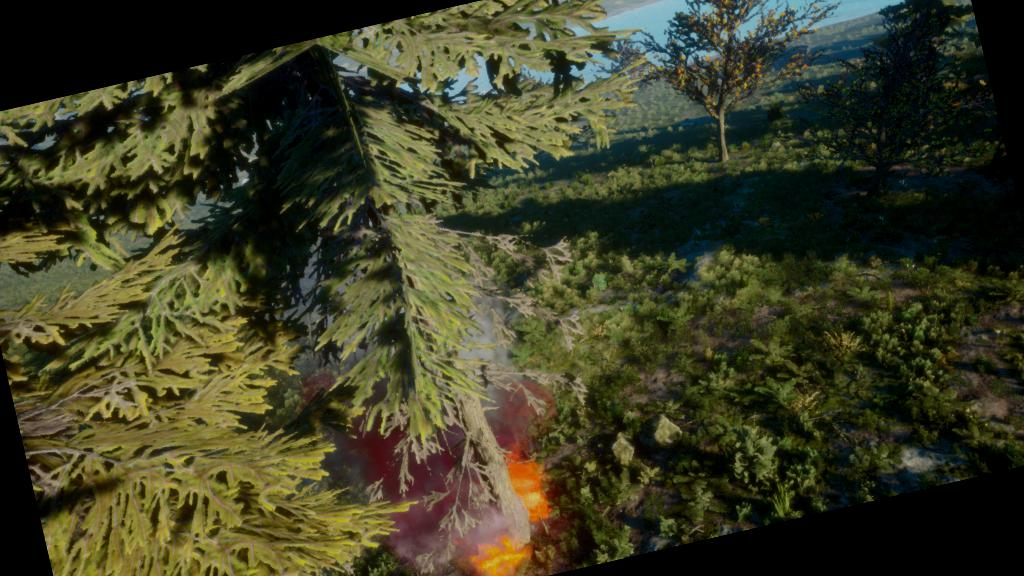Fire: (415, 445, 578, 575)
smoke: (303, 287, 560, 574)
